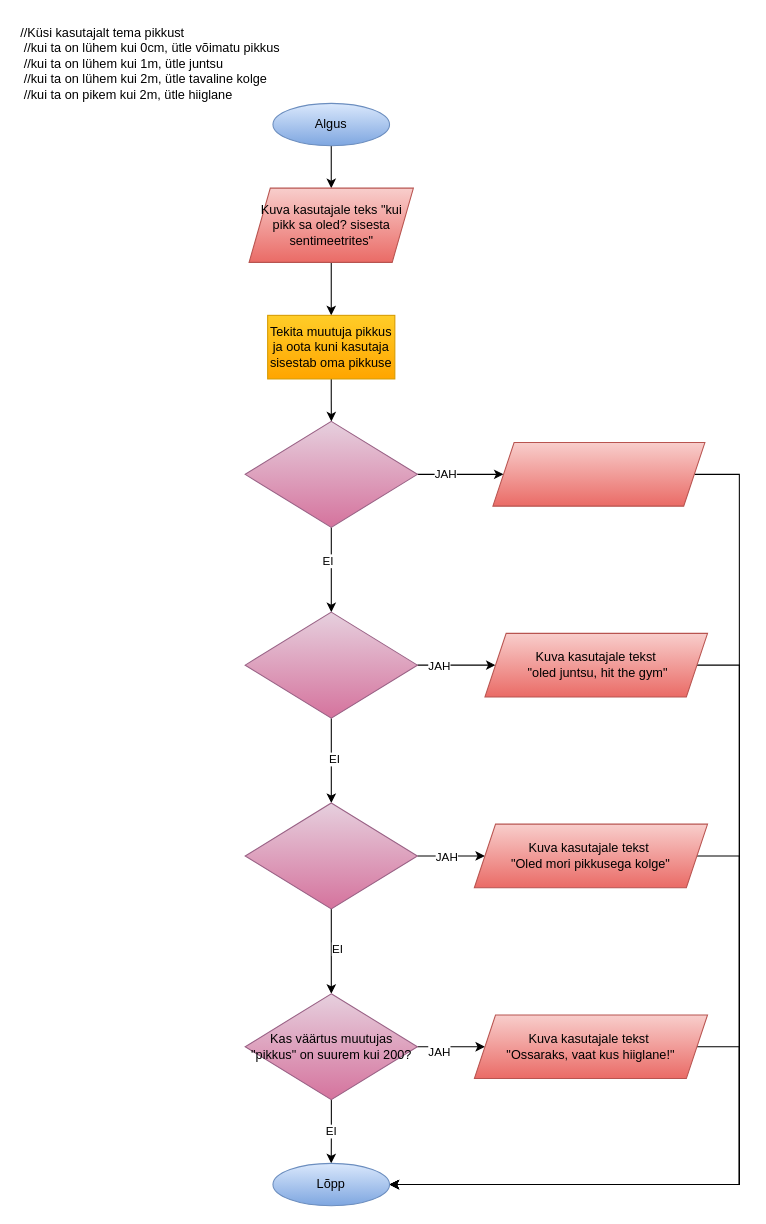
Image size: 766x1224. Some labels were removed from this diagram. The centre of each missing label's shape, as x and y in pixels:
Kas väärtus muutujas "pikkus" on väiksem kui 0?: point 330,473
Kas väärtus muutujas "pikkus" on väiksem kui 100?: point 330,664
Kas väärtus muutujas "pikkus" on väiksem kui 200?: point 330,855
Kuva kasutajale tekst "Selline pikkus on võimalu": point 598,473
